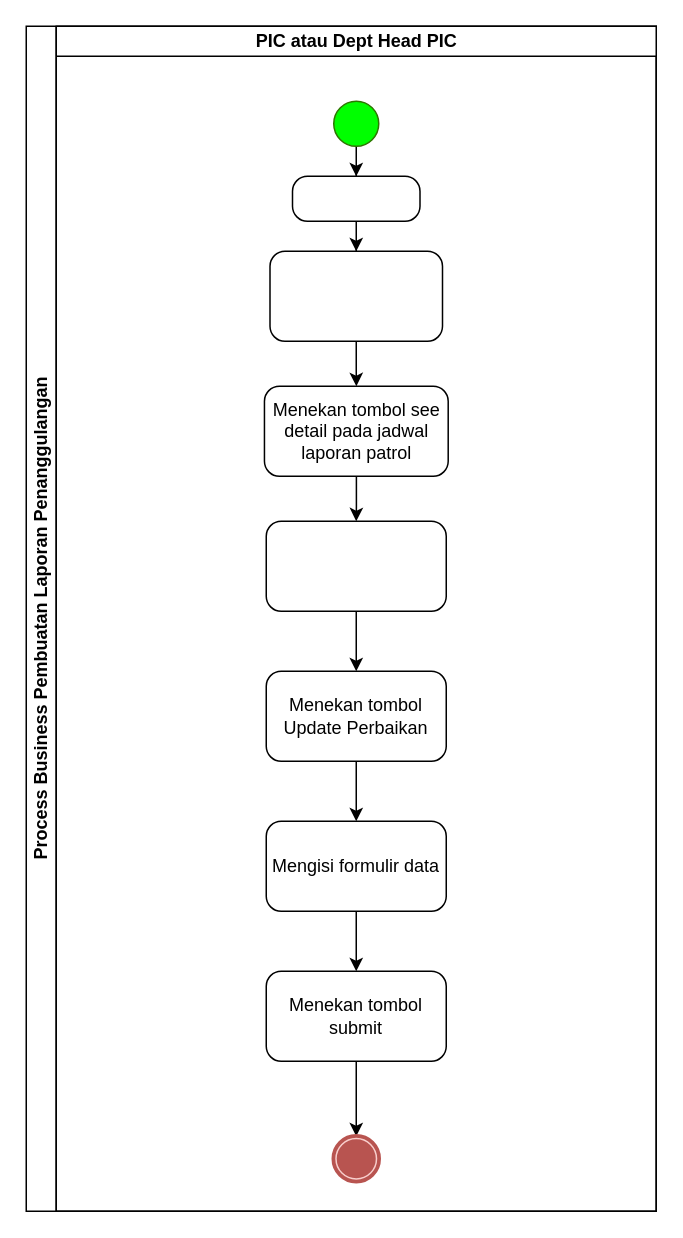
The diagram is 683 pixels wide and 1238 high, and some of its shapes have lost their labels. Here are the shapes that lost their labels. From the top down, the box of each, then its label:
(291, 175, 420, 221): Login
(268, 250, 442, 341): Membuka halaman Laporan Patrol
(265, 520, 446, 611): Menekan tombol see detail pada laporan temuan
